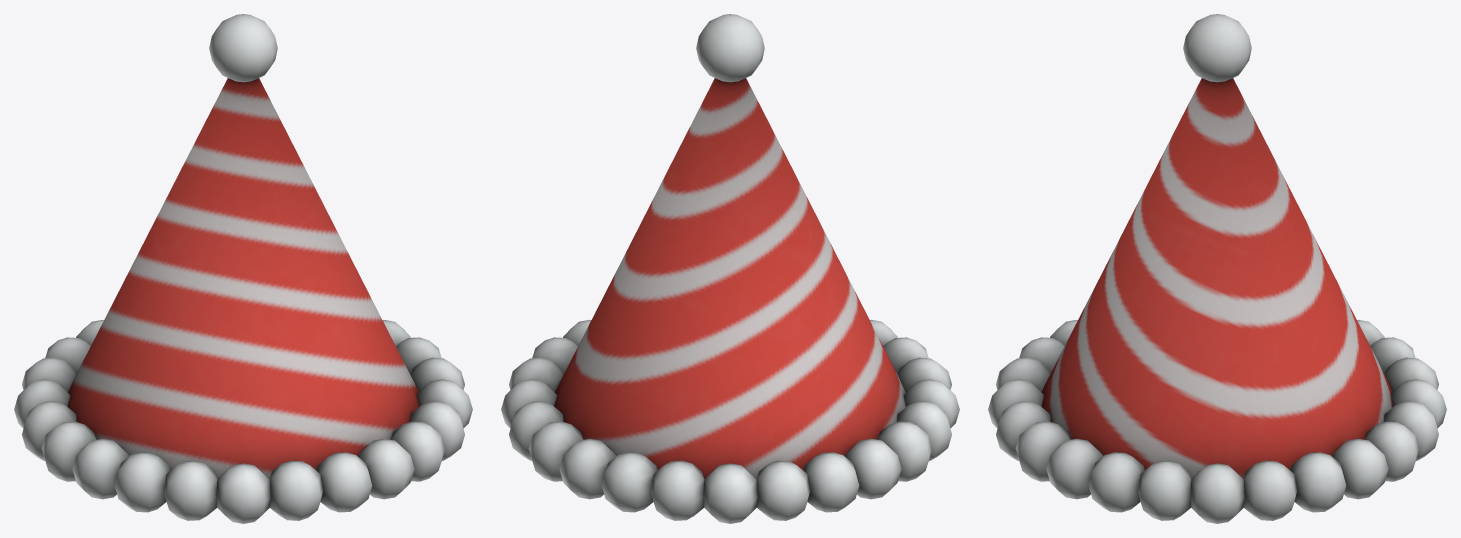
File: ChristmasRoom_HatC.fbx
The picture shows the model from 3 angles, left to right: view 1: azimuth 30°, elevation 25°; view 2: azimuth 150°, elevation 25°; view 3: azimuth 270°, elevation 25°; orthographic projection.
Parts seen in each view (by area): view 1: ChristmasRoom_HatC; view 2: ChristmasRoom_HatC; view 3: ChristmasRoom_HatC.
Boxes of the visible parts, x1,y1,x2,y2 form: ChristmasRoom_HatC: (14,14,472,523); ChristmasRoom_HatC: (501,14,959,523); ChristmasRoom_HatC: (988,14,1446,523).
Bounding box in the file's own units: 18.58 × 18.77 × 18.58.
